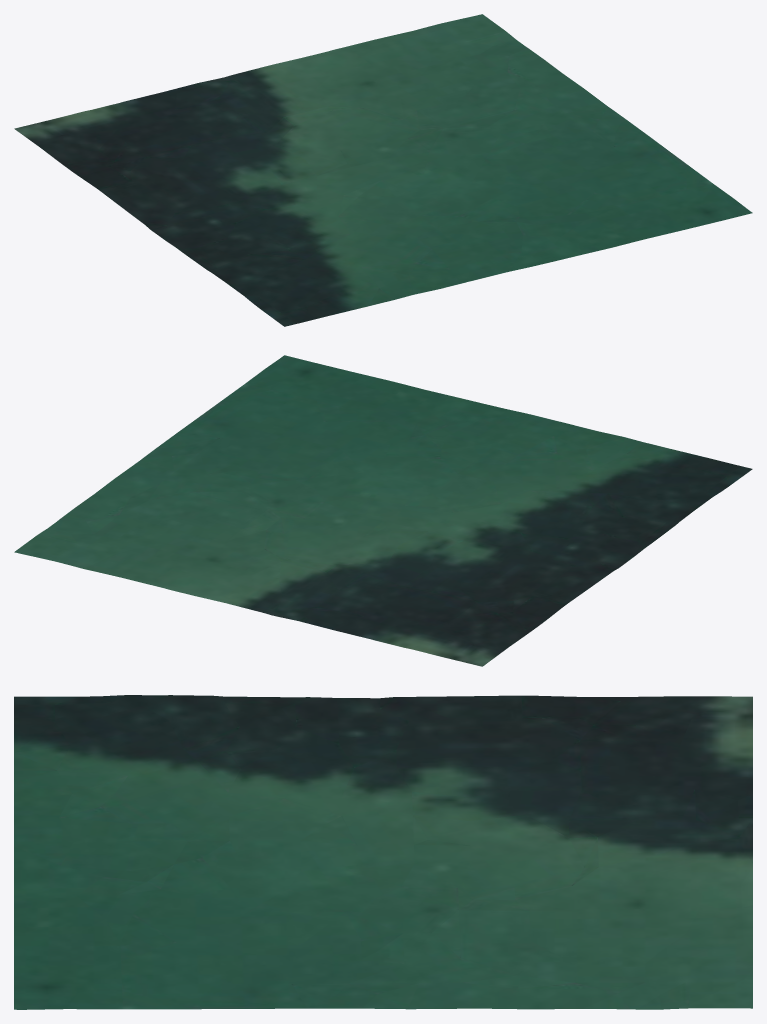
The picture shows the model from 3 angles, top to bottom: view 1: azimuth 30°, elevation 25°; view 2: azimuth 150°, elevation 25°; view 3: azimuth 270°, elevation 25°; orthographic projection. The views are drawn at different scales.
Size of the model in its own units: 52.22 by 0.2817 by 52.22.
Materials: 3 (3 with a texture image).
